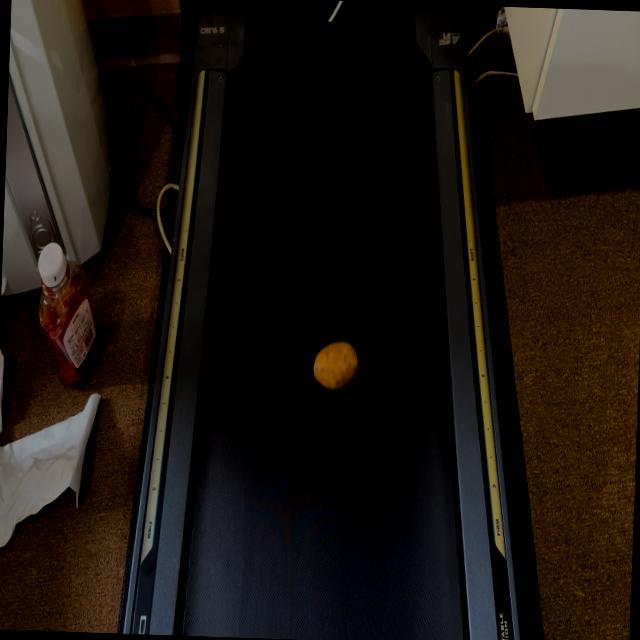Trash: (312, 333, 361, 397)
